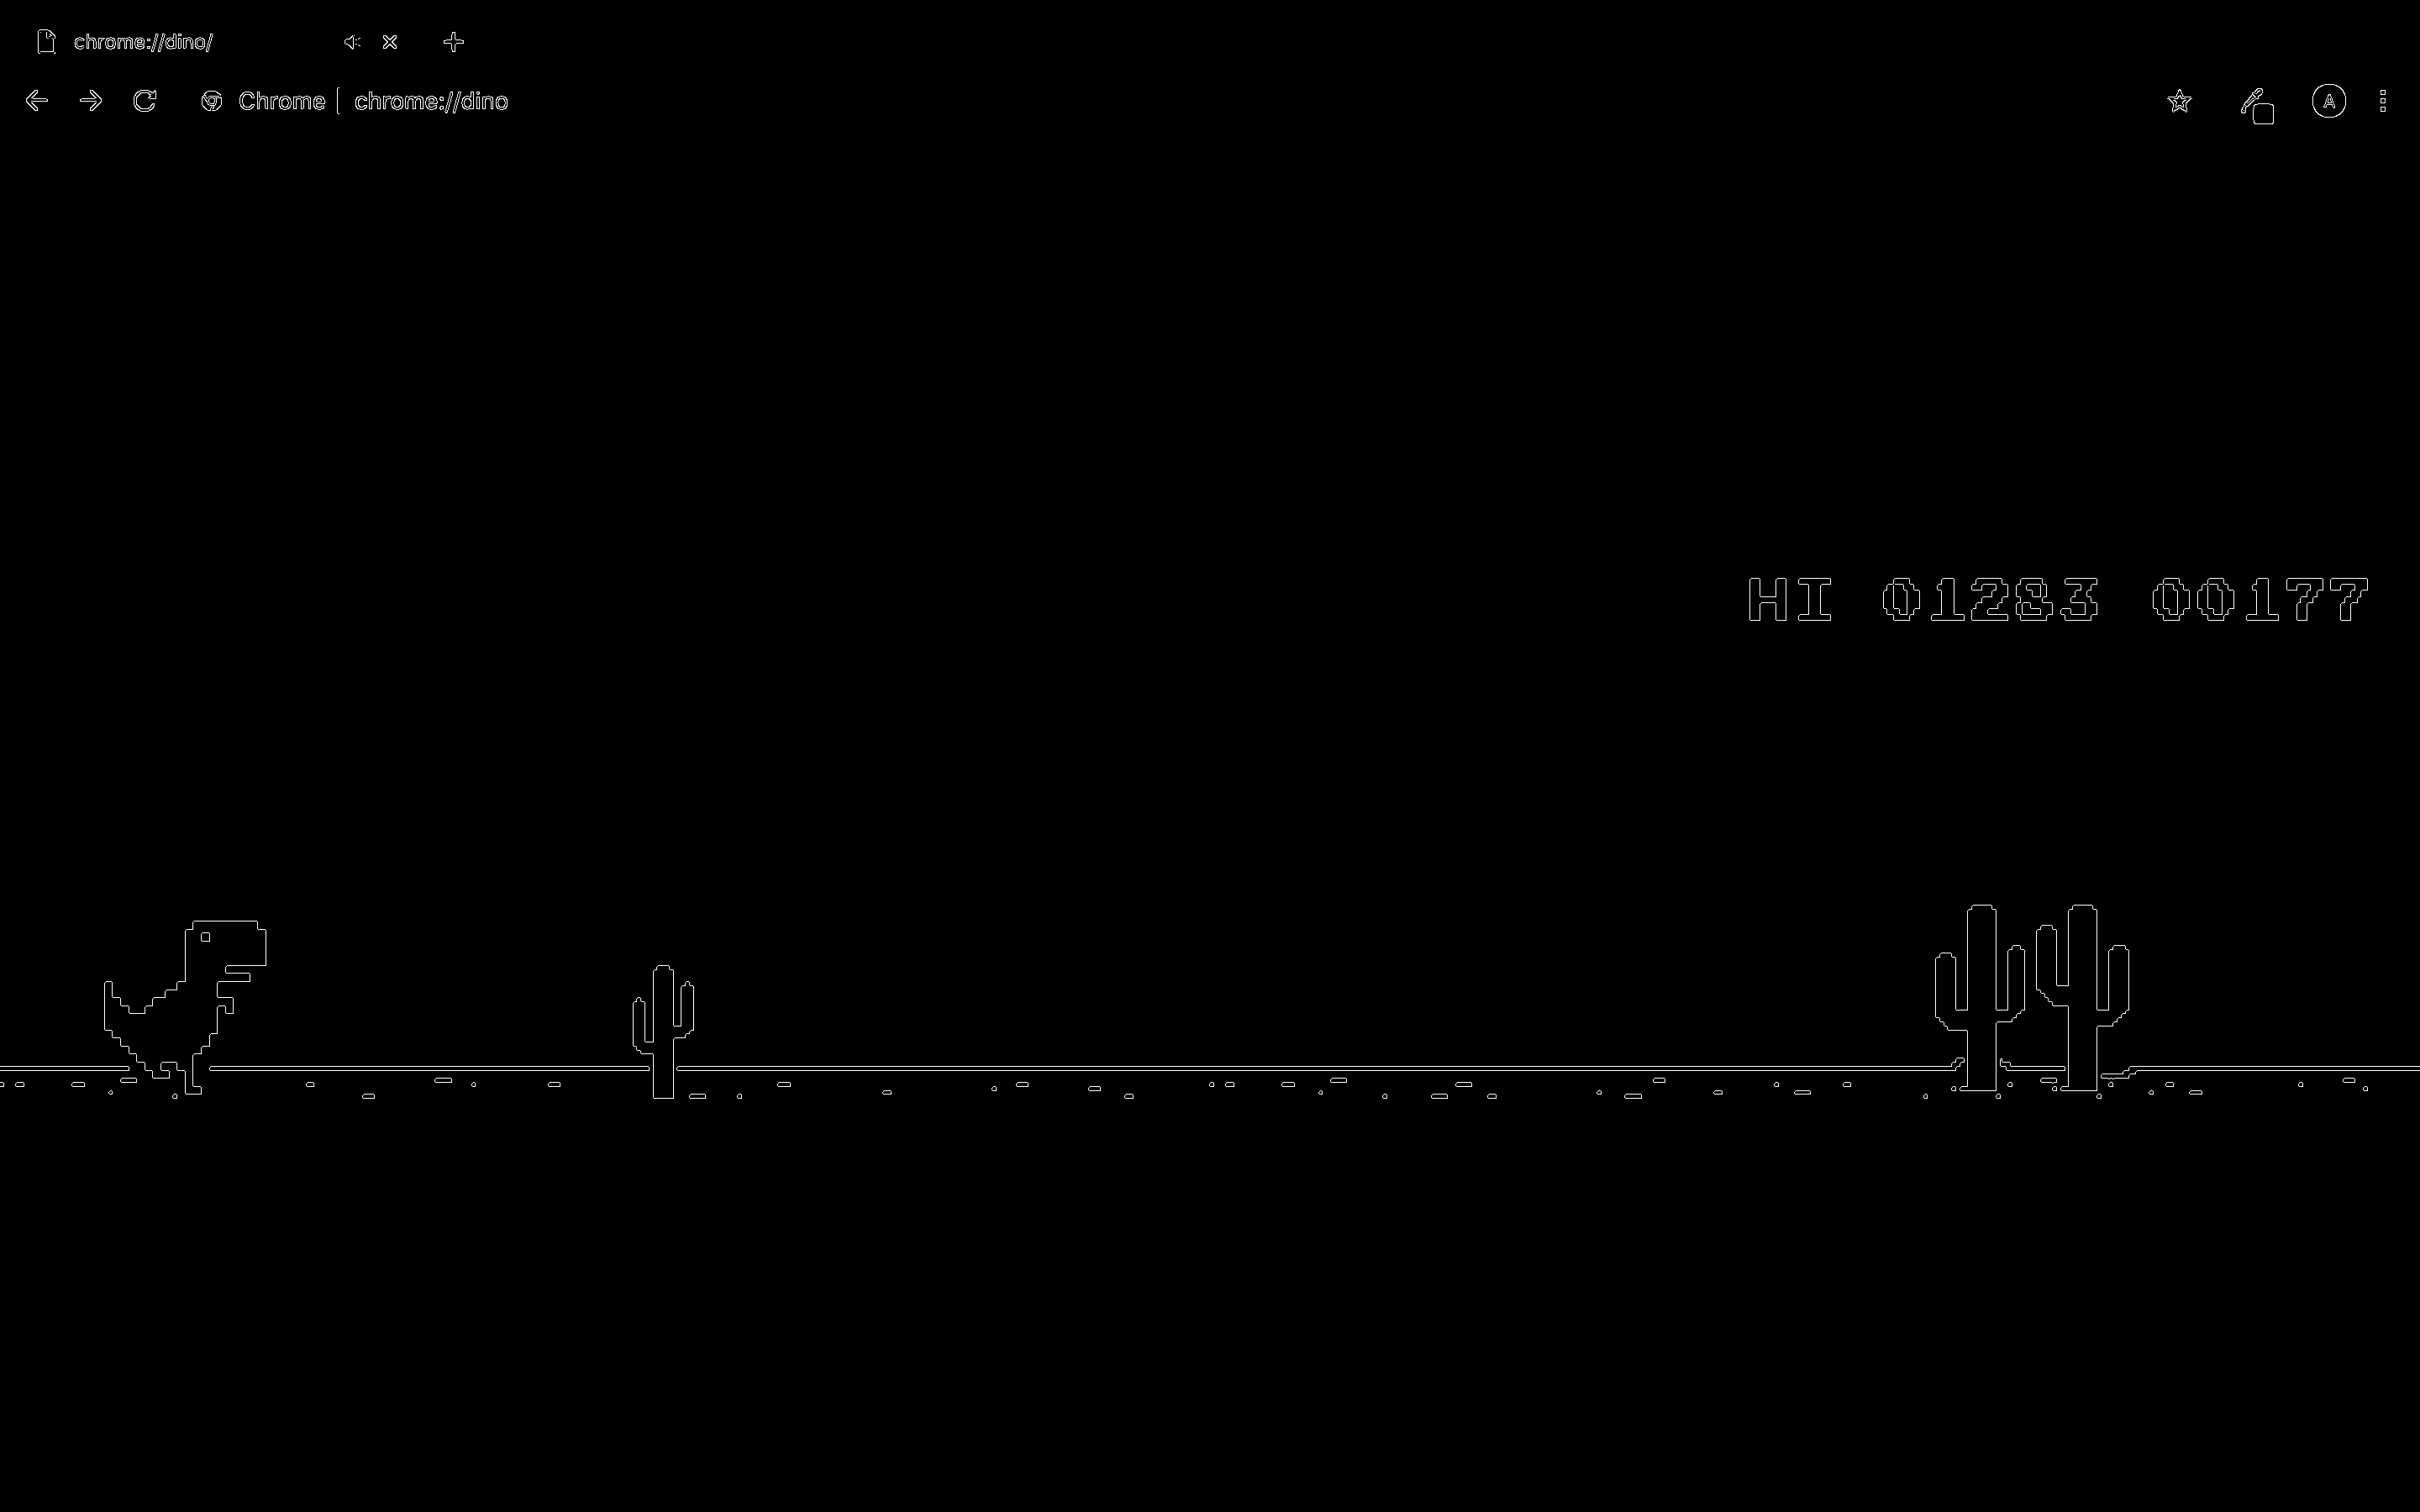Cactus: (1922, 901, 2031, 1096), (2030, 901, 2136, 1101), (625, 963, 706, 1101)
Dino: (110, 921, 272, 1096)
